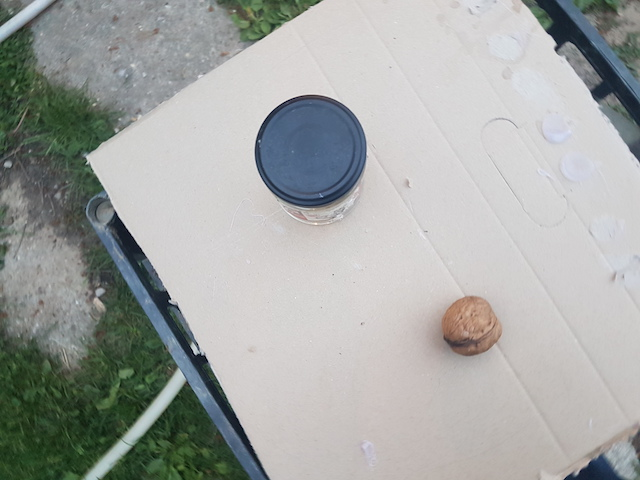nut: (438, 293, 504, 358)
recipient: (250, 93, 369, 204)
